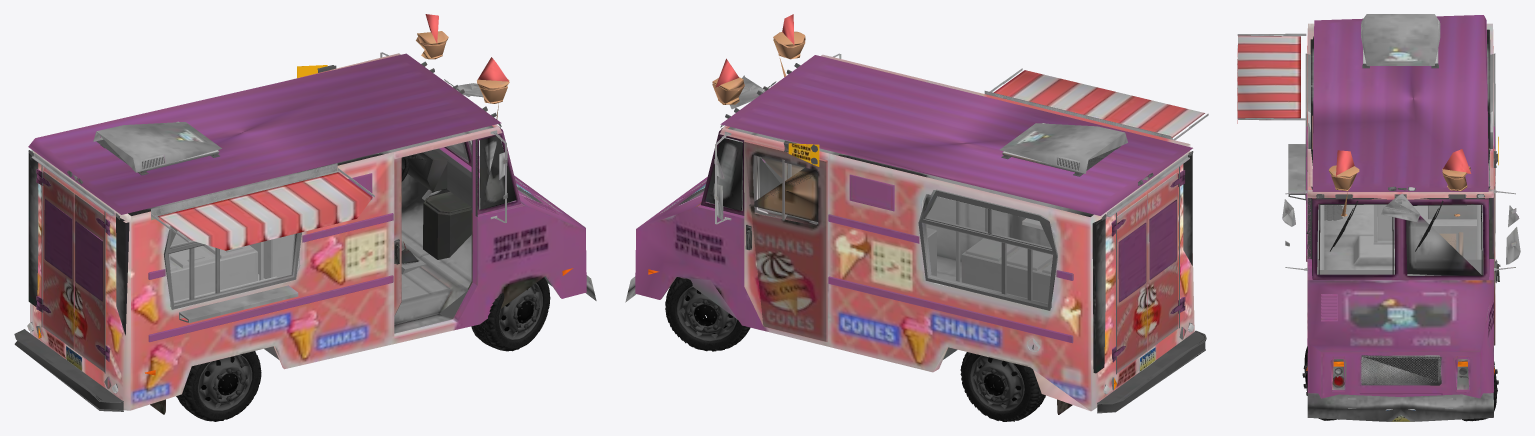
The model's file is ice--SW0RqlA.glb.
The picture shows the model from 3 angles, left to right: view 1: azimuth 30°, elevation 25°; view 2: azimuth 150°, elevation 25°; view 3: azimuth 270°, elevation 25°; orthographic projection. The views are drawn at different scales.
Visible parts, largest first — view 1: object 11, object 9, object 10, Disc front.004_5, Disc front.003_4; view 2: object 11, object 9, object 10, Disc front.002_3, Disc front.001_2; view 3: object 11, object 9, object 10, Windshield wiper PL_7, Disc front.004_5.
Part boxes in pixels (bbox=[...]): object 11: bbox=[27, 52, 586, 414]; object 9: bbox=[14, 14, 596, 411]; object 10: bbox=[170, 135, 515, 302]; Disc front.004_5: bbox=[176, 351, 261, 421]; Disc front.003_4: bbox=[471, 277, 550, 351]; object 11: bbox=[635, 53, 1208, 414]; object 9: bbox=[625, 14, 1206, 413]; object 10: bbox=[706, 136, 1051, 303]; Disc front.002_3: bbox=[960, 352, 1045, 421]; Disc front.001_2: bbox=[665, 277, 750, 351]; object 11: bbox=[1237, 14, 1520, 398]; object 9: bbox=[1305, 53, 1500, 421]; object 10: bbox=[1317, 205, 1482, 275]; Windshield wiper PL_7: bbox=[1330, 200, 1443, 251]; Disc front.004_5: bbox=[1324, 205, 1342, 220].
Size of the model in its own units: 46.12 by 25.11 by 24.6.
Materials: 11 (5 with a texture image).
